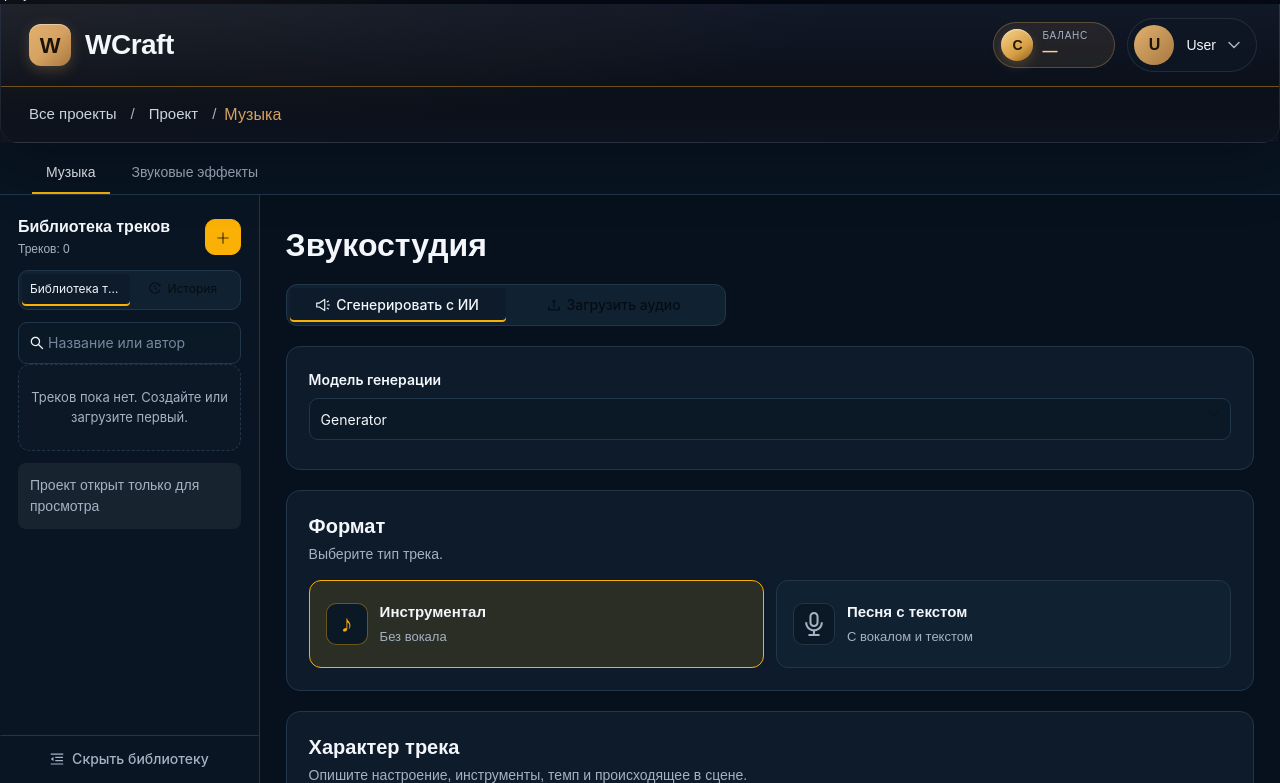
Test: uses the matching permission for scene context 0
Click the text "Загрузить аудио": click(624, 305) x1=566 y1=296 x2=681 y2=313
(page scrolled)
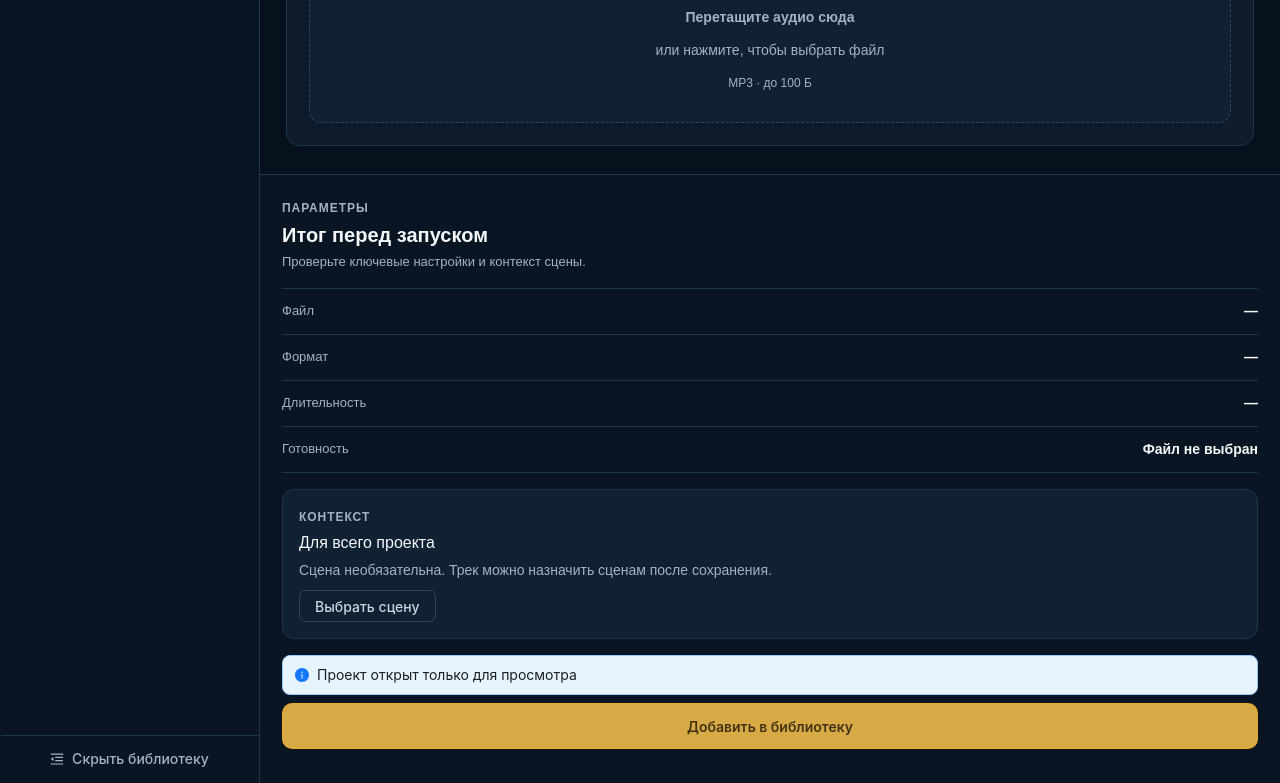
Check: the button "Выбрать сцену" is disabled, box x1=299 y1=590 x2=436 y2=622
